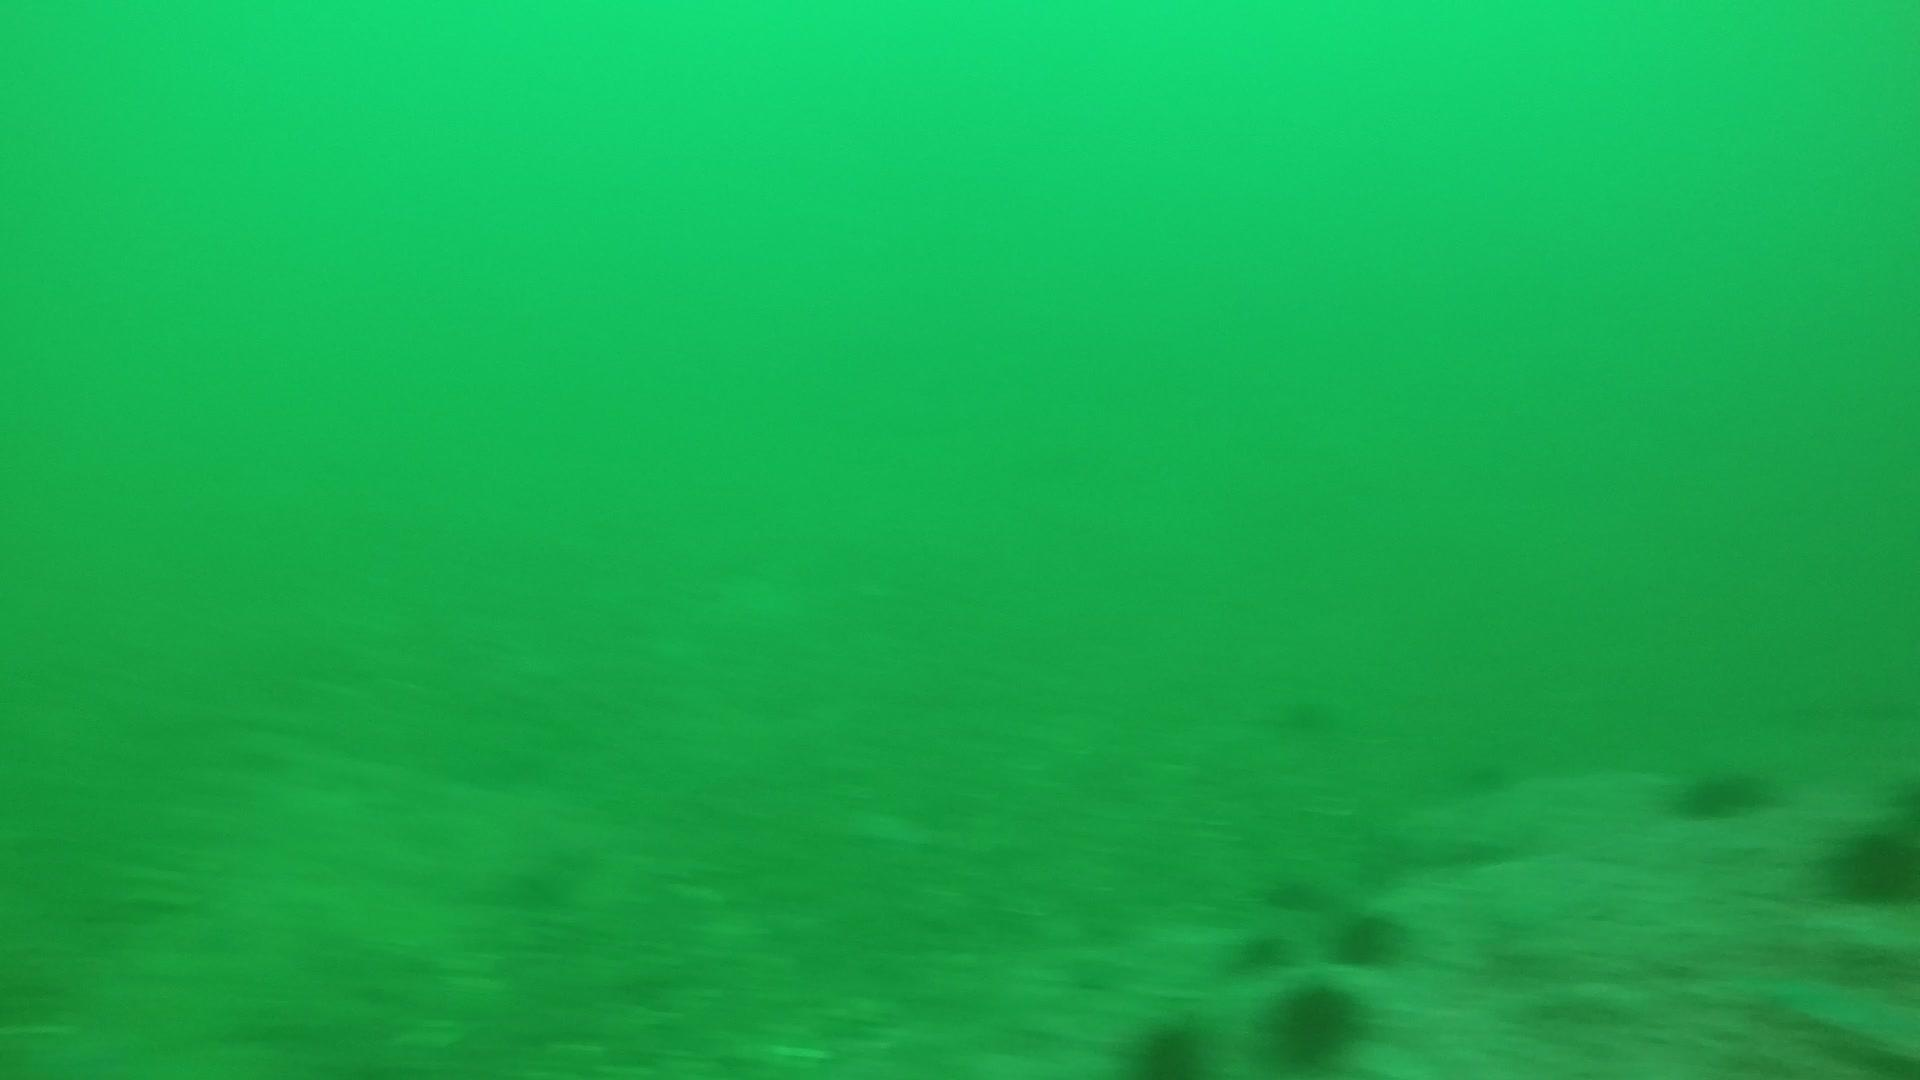echinus: (1263, 975, 1369, 1067), (1820, 812, 1917, 911), (1668, 757, 1774, 825), (1122, 1014, 1213, 1077), (1328, 902, 1410, 971), (1226, 913, 1294, 967), (1265, 873, 1332, 926), (1449, 756, 1516, 808), (1261, 683, 1327, 736)
